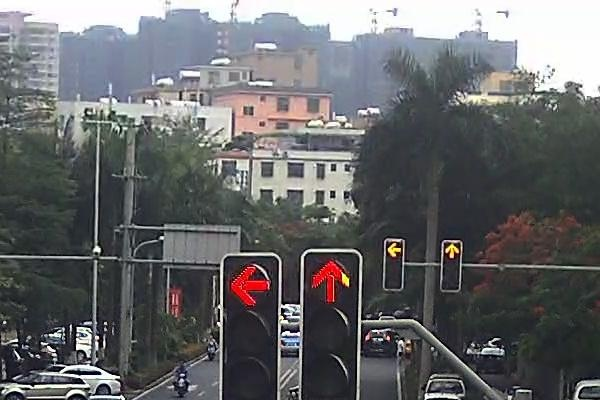redleft: (231, 262, 274, 308), (386, 239, 405, 260)
redstraight: (308, 260, 353, 304), (443, 241, 461, 259)
